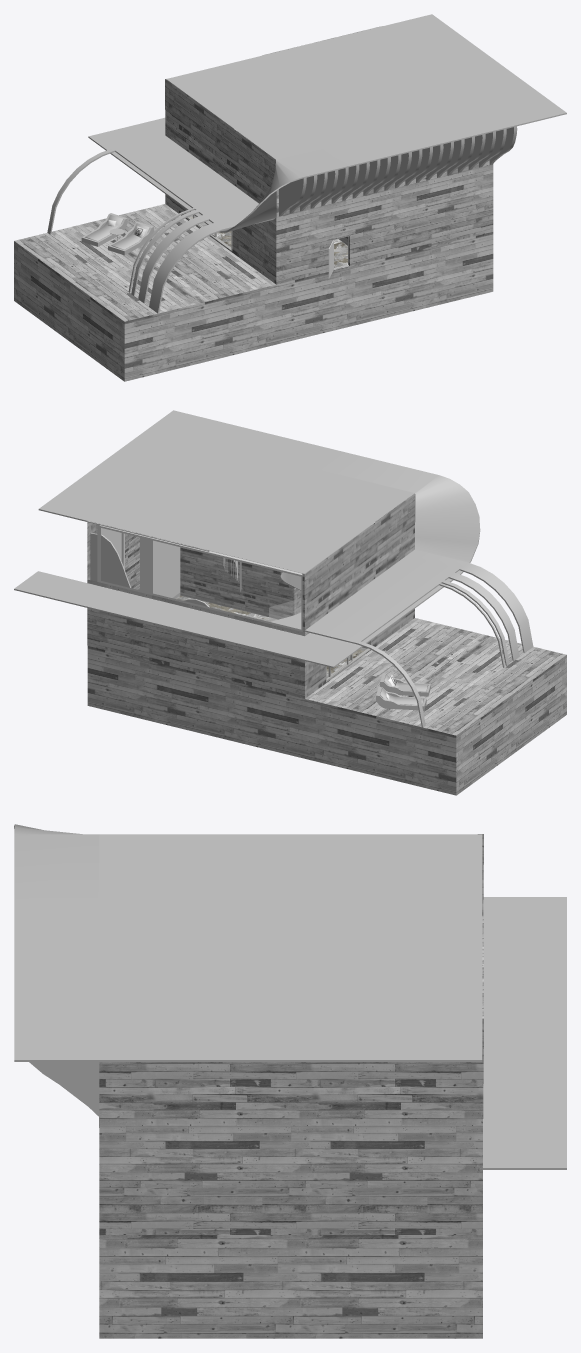
File: PlayerHouseFinal.fbx
3 renders of one model, top to bottom at view 1: azimuth 30°, elevation 25°; view 2: azimuth 150°, elevation 25°; view 3: azimuth 270°, elevation 25°, orthographic. The views are drawn at different scales.
Visible parts, largest first — view 1: Plane.017, Cube.012, Plane.016, Cube.014, Cube.011, Cube.018, Cube.017, Cube.015, Plane.013; view 2: Plane.017, Cube.012, Plane.016, Cube.014, Cube.011, BezierCurve.001, Plane.008, BezierCurve, Plane.003, BezierCurve.008, Cube.015, Plane.013 (+2 smaller); view 3: Cube.012, Plane.016, Plane.017, Cube.014, Cube.018.
Part boxes in pixels (<box>): Plane.017: <box>14,204,493,381</box>; Cube.012: <box>88,14,566,232</box>; Plane.016: <box>165,26,493,284</box>; Cube.014: <box>166,55,373,159</box>; Cube.011: <box>47,135,258,313</box>; Cube.018: <box>279,126,517,216</box>; Cube.017: <box>108,221,153,255</box>; Cube.015: <box>81,213,127,246</box>; Plane.013: <box>189,215,347,267</box>; Plane.017: <box>87,618,566,795</box>; Cube.012: <box>14,410,480,667</box>; Plane.016: <box>87,493,414,698</box>; Cube.014: <box>207,469,414,573</box>; Cube.011: <box>305,549,533,727</box>; BezierCurve.001: <box>180,547,301,619</box>; Plane.008: <box>97,524,371,648</box>; BezierCurve: <box>90,533,209,607</box>; Plane.003: <box>99,526,302,631</box>; BezierCurve.008: <box>269,572,300,621</box>; Cube.015: <box>376,687,426,710</box>; Plane.013: <box>176,595,366,677</box>; Cube.012: <box>14,824,566,1169</box>; Plane.016: <box>99,834,483,1234</box>; Plane.017: <box>99,1117,482,1338</box>; Cube.014: <box>98,834,482,917</box>; Cube.018: <box>29,1062,99,1116</box>.
Size of the model in its own units: 3358 by 1418 by 2214.
